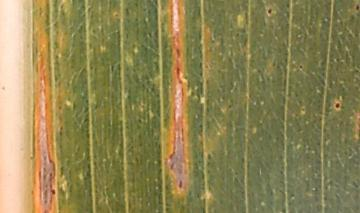tarspot: (334, 103, 341, 110), (354, 3, 360, 11), (178, 181, 184, 188), (268, 8, 272, 16), (51, 189, 56, 195), (299, 64, 303, 71)
